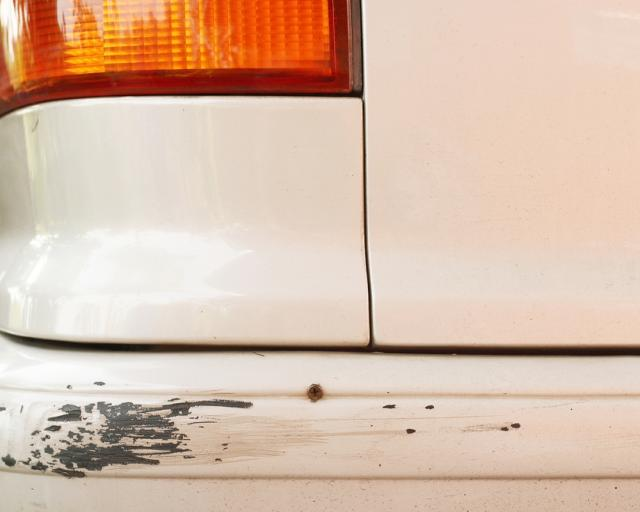scratch: (0, 376, 533, 481)
